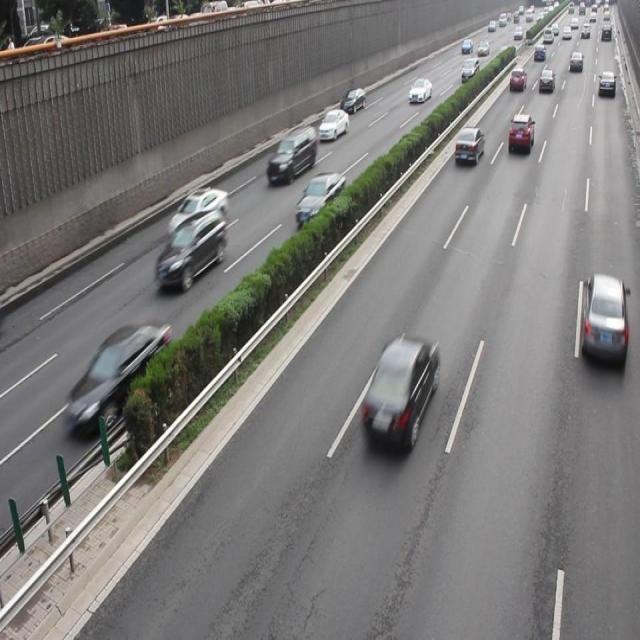car: (65, 320, 169, 434), (359, 334, 438, 454), (154, 208, 226, 287), (580, 272, 626, 369), (168, 186, 228, 238), (294, 172, 346, 230), (453, 125, 483, 165), (507, 113, 533, 155), (318, 108, 348, 140), (338, 86, 365, 112)
truck: (265, 124, 316, 184)
